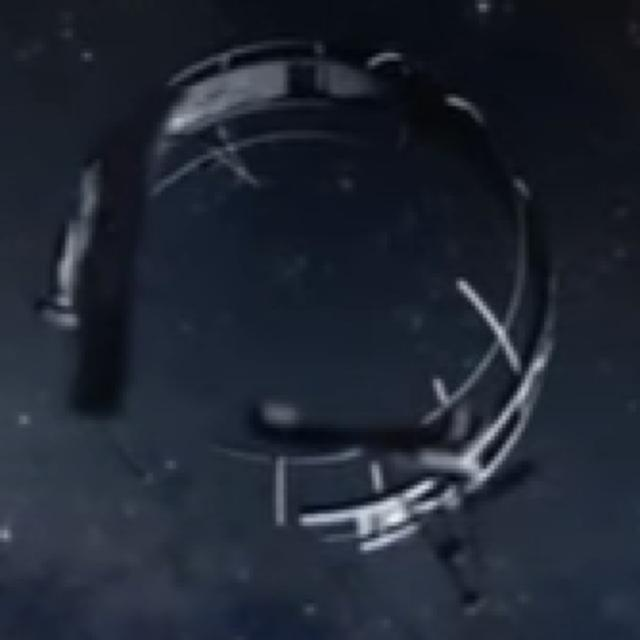large_debris: (0, 2, 615, 622)
